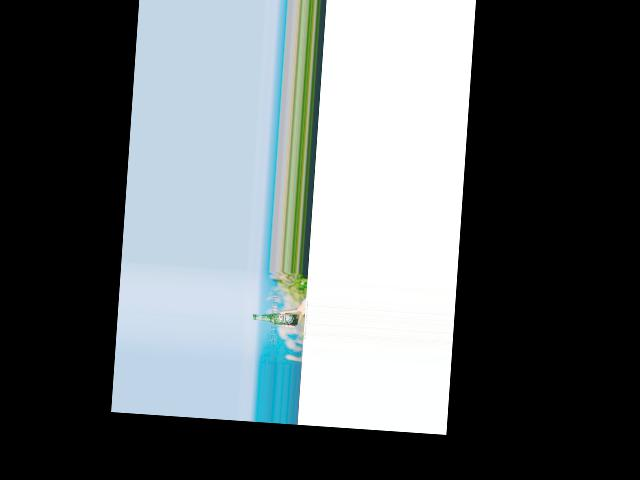beer: (252, 311, 298, 325)
